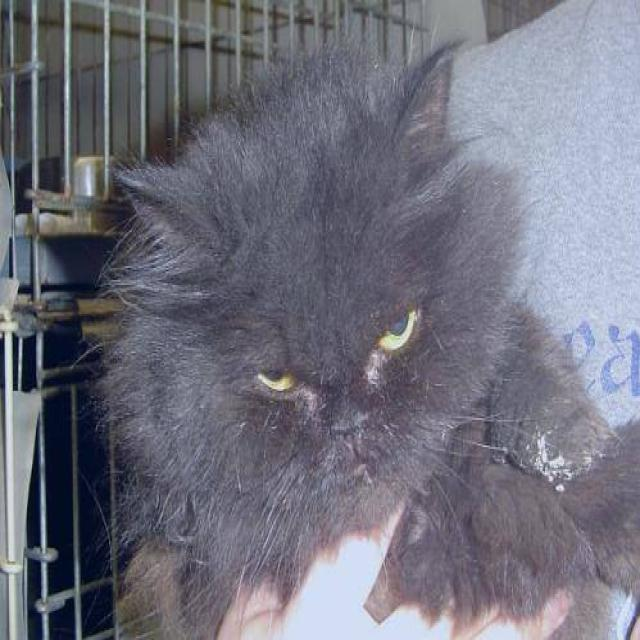cat: (84, 24, 638, 638)
